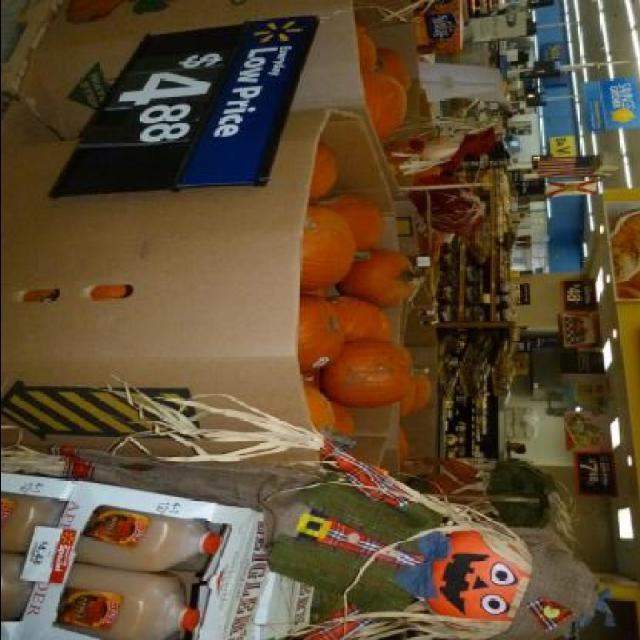Pumpkin: (297, 142, 429, 456), (360, 73, 408, 144), (376, 50, 410, 93), (358, 21, 382, 77)
